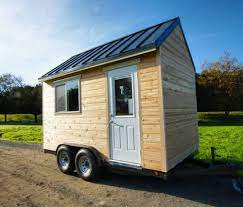Tin-shade House: (27, 13, 203, 185)
